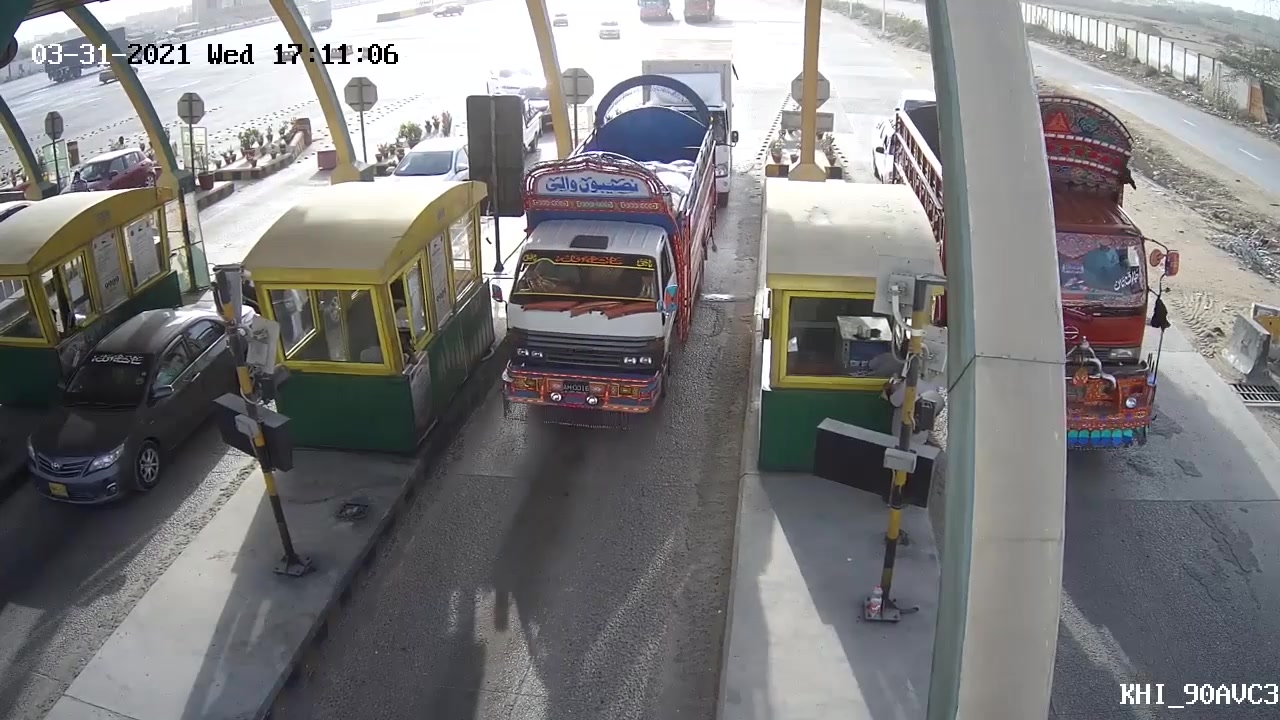F3: (483, 67, 723, 426)
